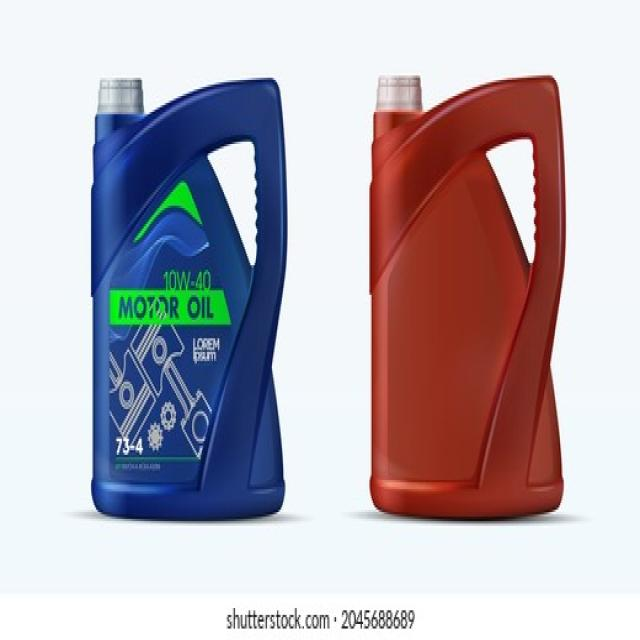motor_oil: (88, 60, 294, 535), (368, 62, 572, 520)
